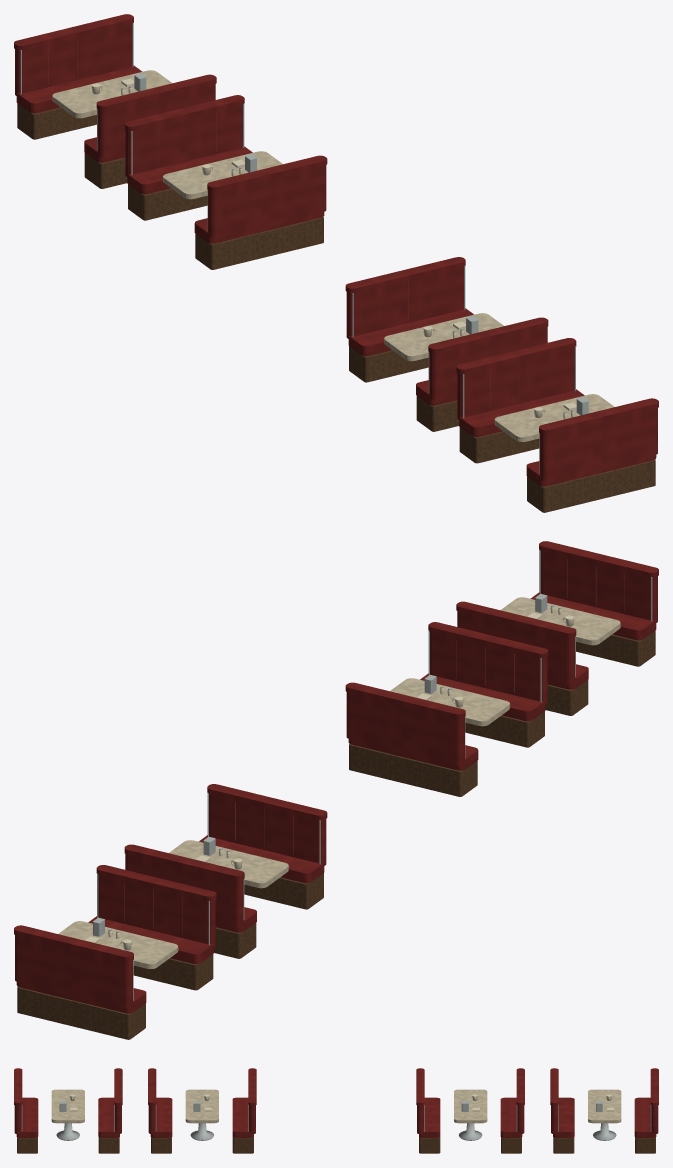
File: SM_Mesa_Booths.glb
The picture shows the model from 3 angles, top to bottom: view 1: azimuth 30°, elevation 25°; view 2: azimuth 150°, elevation 25°; view 3: azimuth 270°, elevation 25°; orthographic projection. The views are drawn at different scales.
Parts seen in each view (by area): view 1: SM_Mesa_Booths; view 2: SM_Mesa_Booths; view 3: SM_Mesa_Booths.
Boxes of the visible parts, x1,y1,x2,y2 form: SM_Mesa_Booths: (14,14,658,512); SM_Mesa_Booths: (14,541,658,1039); SM_Mesa_Booths: (14,1068,658,1153).
Bounding box in the file's own units: 1.87 × 1.28 × 14.67.
Materials: 7 (4 with a texture image).
